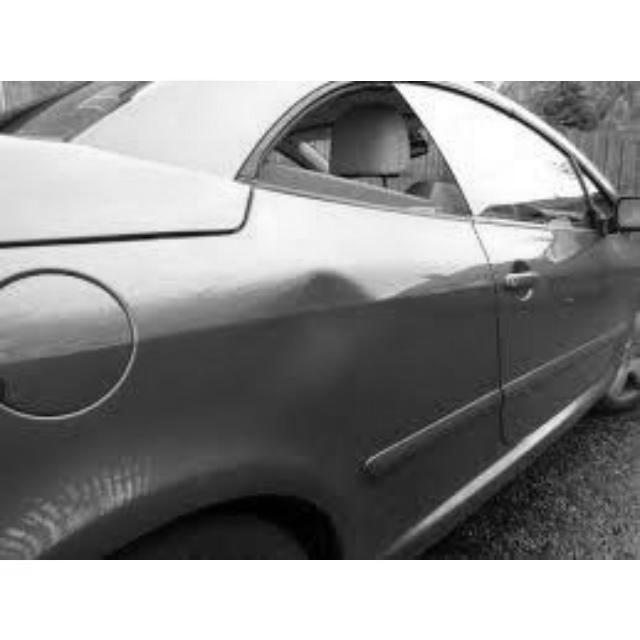quaterpanel-dent: (146, 217, 482, 498)
